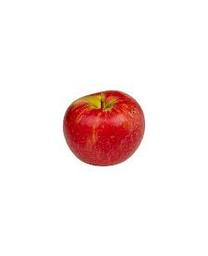apple: (62, 89, 144, 165)
